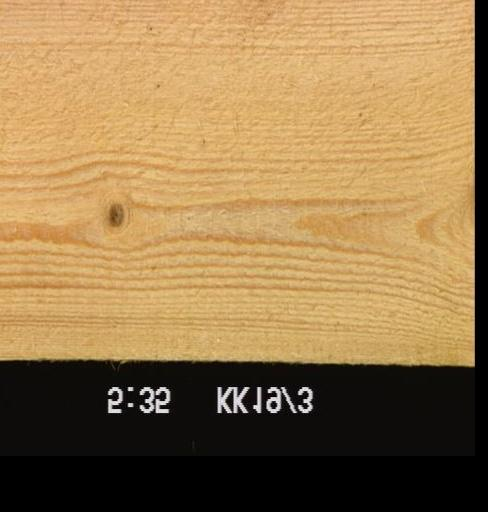sound_knot: (104, 202, 124, 229)
